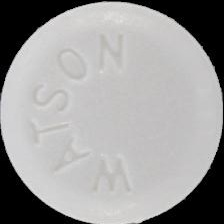52544-940: (0, 0, 224, 224)
